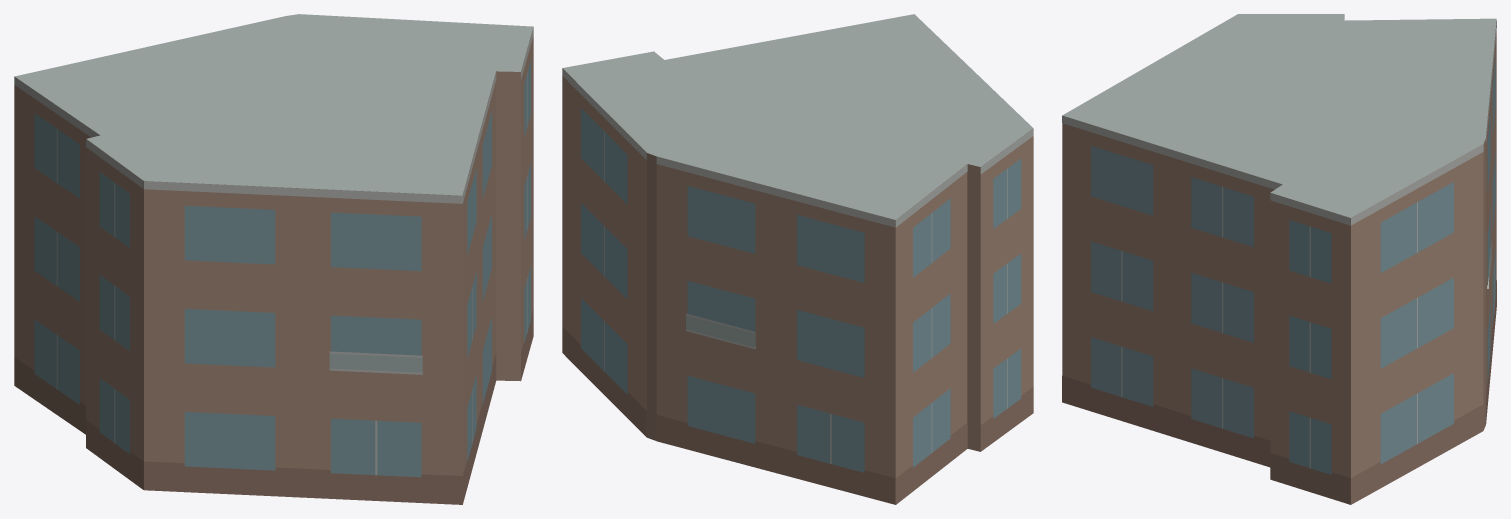
File: survey-upis-32978176.glb
3 views of the same model, side by side, from view 1: azimuth 30°, elevation 25°; view 2: azimuth 150°, elevation 25°; view 3: azimuth 270°, elevation 25° (orthographic). The views are drawn at different scales.
Parts seen in each view (by area): view 1: survey-upis-32978176.tmp; view 2: survey-upis-32978176.tmp; view 3: survey-upis-32978176.tmp.
Part boxes in pixels (x1,y1,x2,y2): survey-upis-32978176.tmp: (14,14,533,504); survey-upis-32978176.tmp: (562,14,1033,504); survey-upis-32978176.tmp: (1062,14,1496,504).
Bounding box in the file's own units: 13.97 × 9.15 × 12.58.
